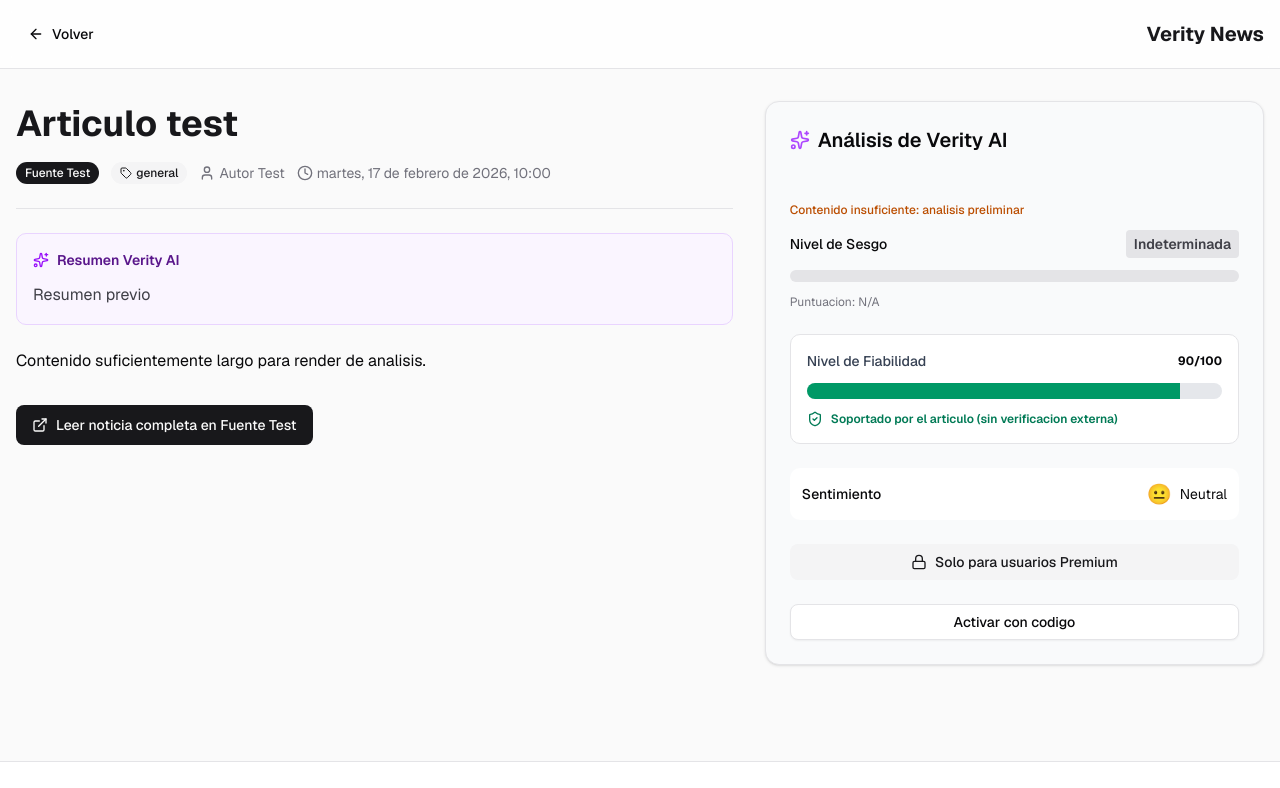
NewsDetailPage premium gating › free user shows premium-required message on deep click and does not open promo modal
Click the button "Solo para usuarios Premium" at (1014, 562), box [790, 544, 1239, 580]
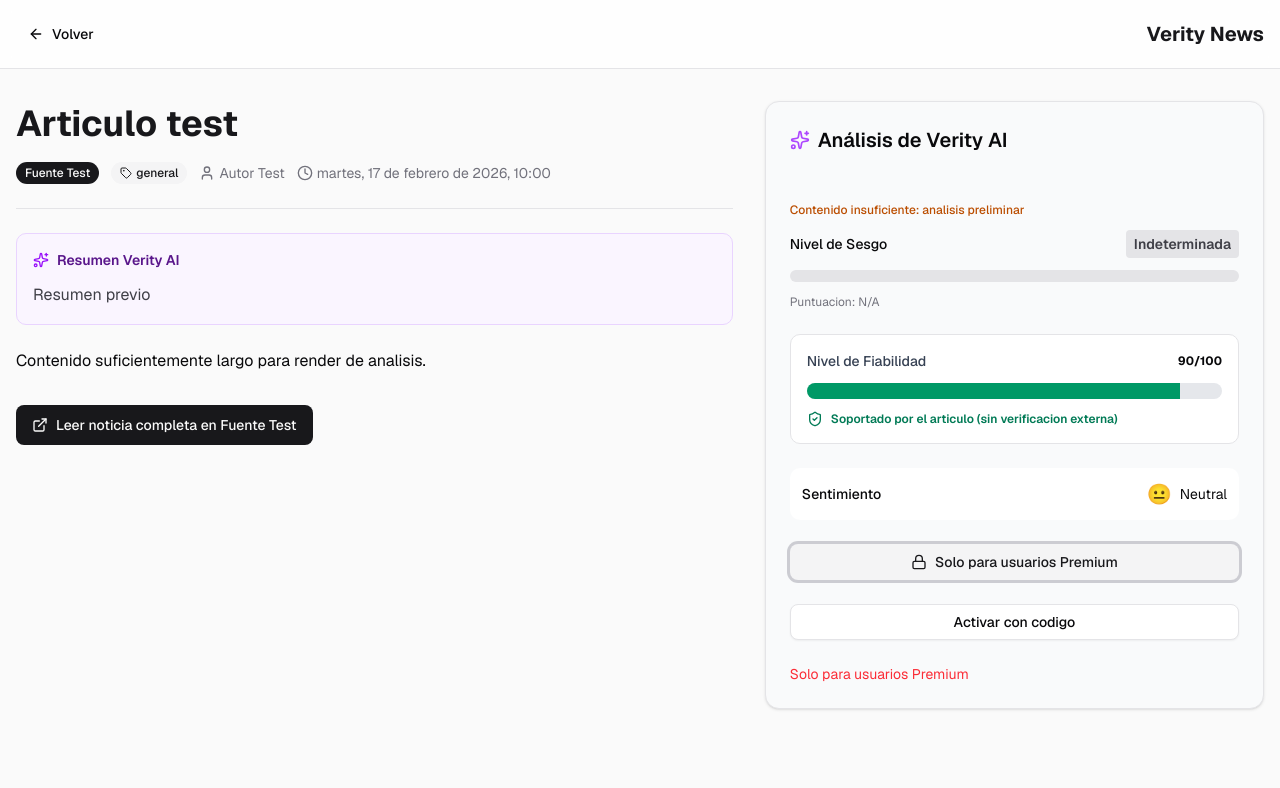
Check: the text "Solo para usuarios Premium" is shown, box [790, 665, 969, 683]
